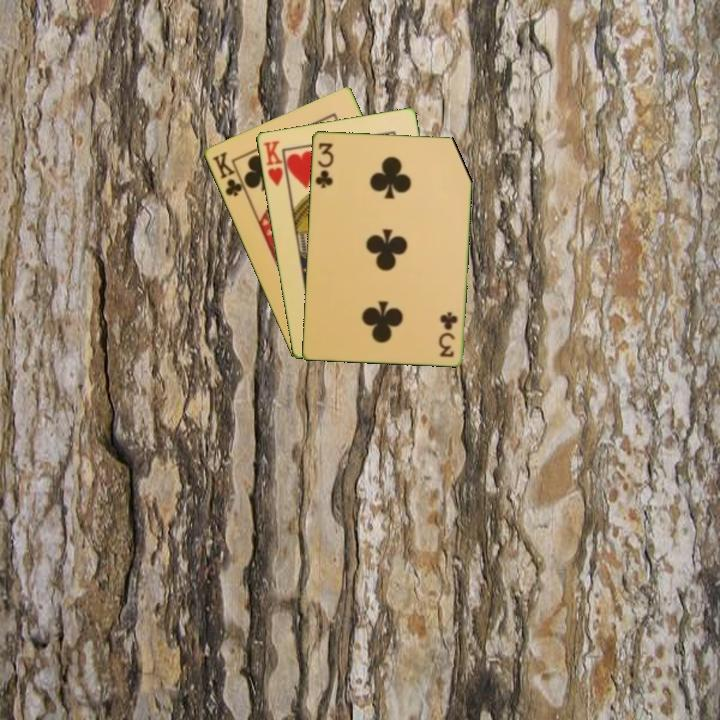3c: (311, 139, 336, 191), (437, 308, 460, 360)
Kc: (208, 148, 249, 199)
Kh: (259, 137, 290, 191)
